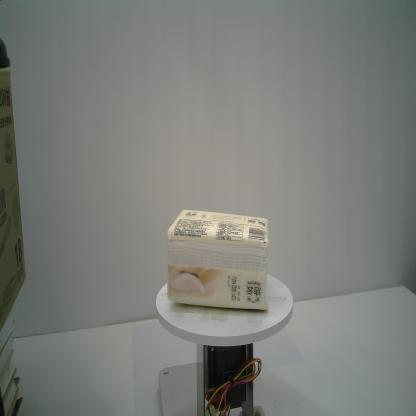Tissue: (166, 209, 270, 313)
